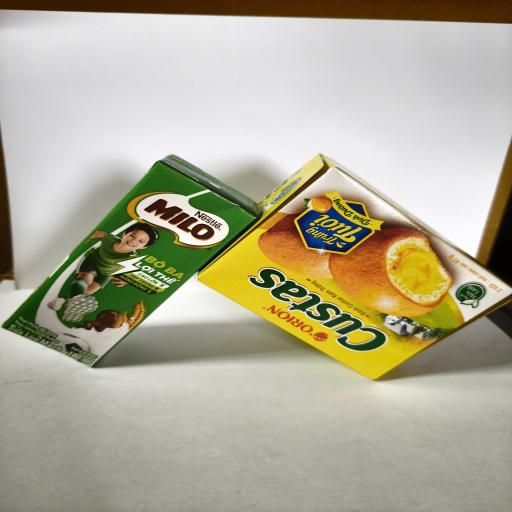custas: (198, 153, 512, 380)
milo: (1, 154, 260, 368)
